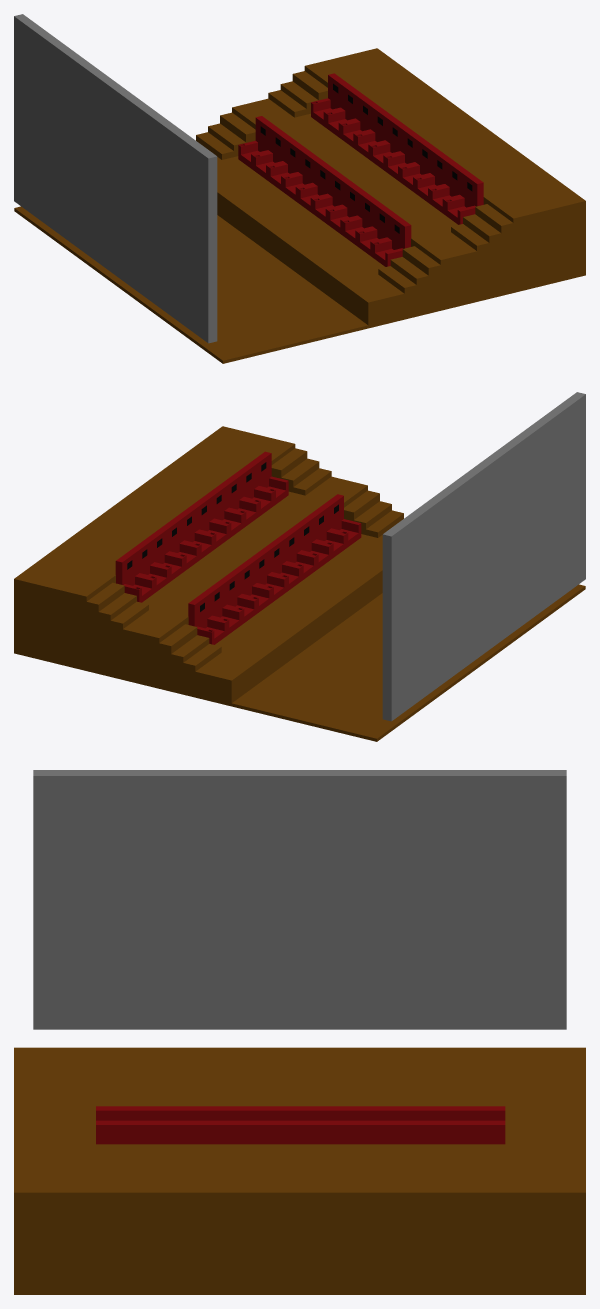
File: cinema.dae
3 views of the same model, one above another, from view 1: azimuth 30°, elevation 25°; view 2: azimuth 150°, elevation 25°; view 3: azimuth 270°, elevation 25° (orthographic). The views are drawn at different scales.
Parts seen in each view (by area): view 1: Cube.001, Cube, Cube.011, Cube.012, Cube.014, Cube.015, Cube.003, Cube.017, Cube.002, Cube.005, Cube.016, Cube.018 (+10 smaller); view 2: Cube.001, Cube, Cube.021, Cube.002, Cube.019, Cube.005, Cube.010, Cube.011, Cube.016, Cube.009, Cube.003, Cube.004 (+10 smaller); view 3: Cube, Cube.001, Cube.018, Cube.010, Cube.021, Cube.016, Cube.014, Cube.020, Cube.015, Cube.011, Cube.017, Cube.019.
Part boxes in pixels (left/top/right/bottom): Cube.001: left=14, top=48, right=585, bottom=363; Cube: left=14, top=14, right=217, bottom=343; Cube.011: left=445, top=171, right=483, bottom=224; Cube.012: left=372, top=214, right=411, bottom=266; Cube.014: left=370, top=117, right=408, bottom=171; Cube.015: left=385, top=128, right=423, bottom=182; Cube.003: left=253, top=127, right=291, bottom=180; Cube.017: left=400, top=139, right=438, bottom=193; Cube.002: left=238, top=116, right=276, bottom=170; Cube.005: left=268, top=138, right=306, bottom=191; Cube.016: left=415, top=150, right=453, bottom=203; Cube.018: left=340, top=95, right=378, bottom=149; Cube.001: left=14, top=426, right=585, bottom=741; Cube: left=382, top=392, right=585, bottom=721; Cube.021: left=115, top=550, right=154, bottom=602; Cube.002: left=188, top=592, right=226, bottom=644; Cube.019: left=161, top=517, right=199, bottom=571; Cube.005: left=218, top=571, right=256, bottom=624; Cube.010: left=235, top=462, right=273, bottom=516; Cube.011: left=250, top=451, right=288, bottom=505; Cube.016: left=220, top=473, right=258, bottom=527; Cube.009: left=248, top=549, right=286, bottom=602; Cube.003: left=203, top=581, right=241, bottom=635; Cube.004: left=233, top=560, right=271, bottom=613; Cube: left=33, top=770, right=566, bottom=1029; Cube.001: left=14, top=1047, right=585, bottom=1294; Cube.018: left=381, top=1120, right=423, bottom=1144; Cube.010: left=136, top=1120, right=178, bottom=1144; Cube.021: left=463, top=1120, right=505, bottom=1144; Cube.016: left=177, top=1120, right=219, bottom=1144; Cube.014: left=300, top=1120, right=341, bottom=1144; Cube.020: left=423, top=1120, right=464, bottom=1144; Cube.015: left=259, top=1120, right=300, bottom=1144; Cube.011: left=96, top=1120, right=137, bottom=1144; Cube.017: left=218, top=1120, right=259, bottom=1144; Cube.019: left=341, top=1120, right=382, bottom=1144.
Bounding box in the file's own units: 43.08 × 42.03 × 22.45.
